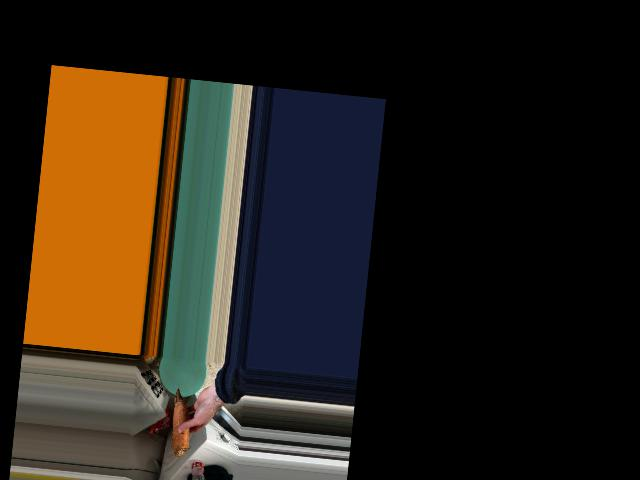sweet_potato: (170, 391, 195, 456)
